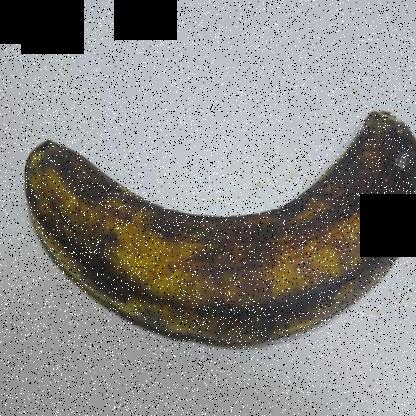overripe: (17, 88, 415, 365)
rotten: (347, 98, 415, 238)
